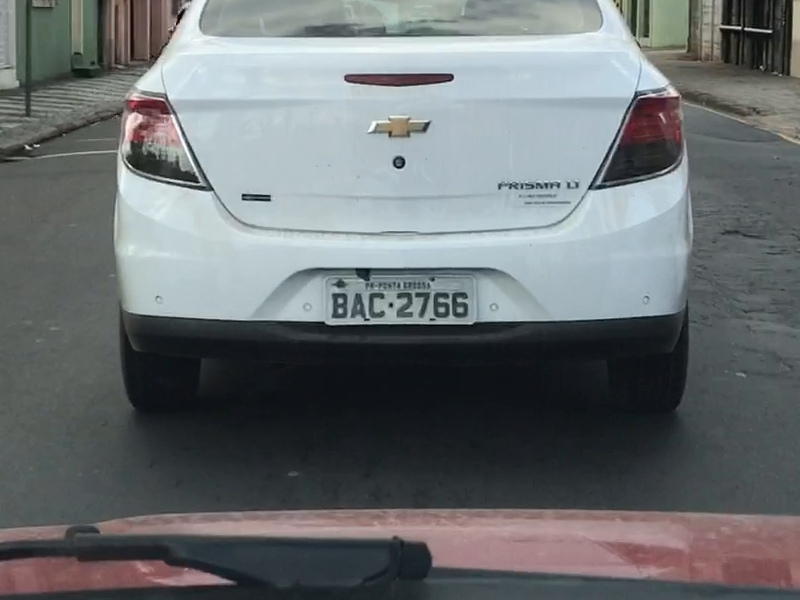placa: (323, 275, 477, 325)
